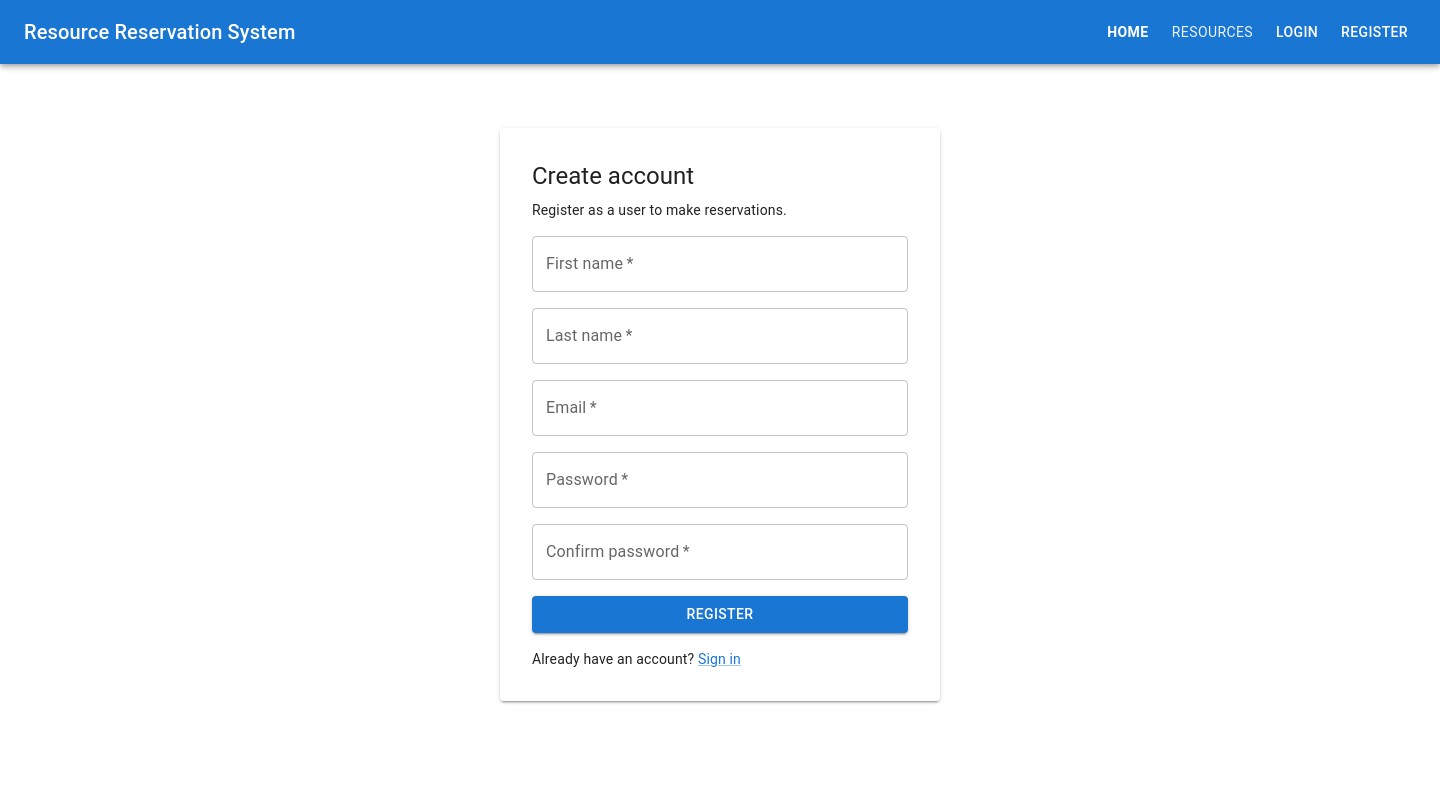
Test: RegisterPage › shows validation error when passwords do not match
Type "User" into the field labelled "First name *".
click(720, 264); type("User")  # box [532,236,908,292]
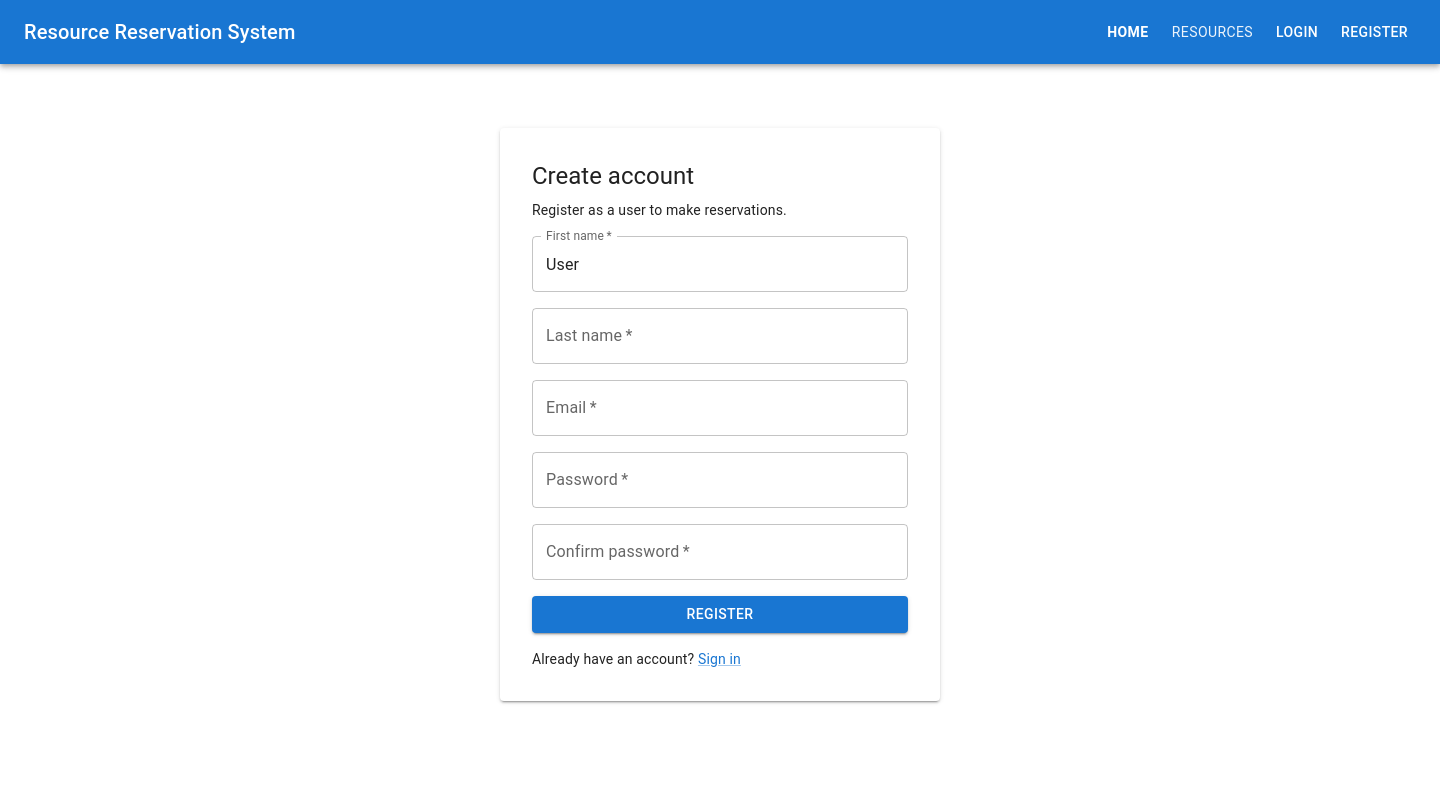
Type "Test" into the field labelled "Last name *".
click(720, 336); type("Test")  # box [532,308,908,364]
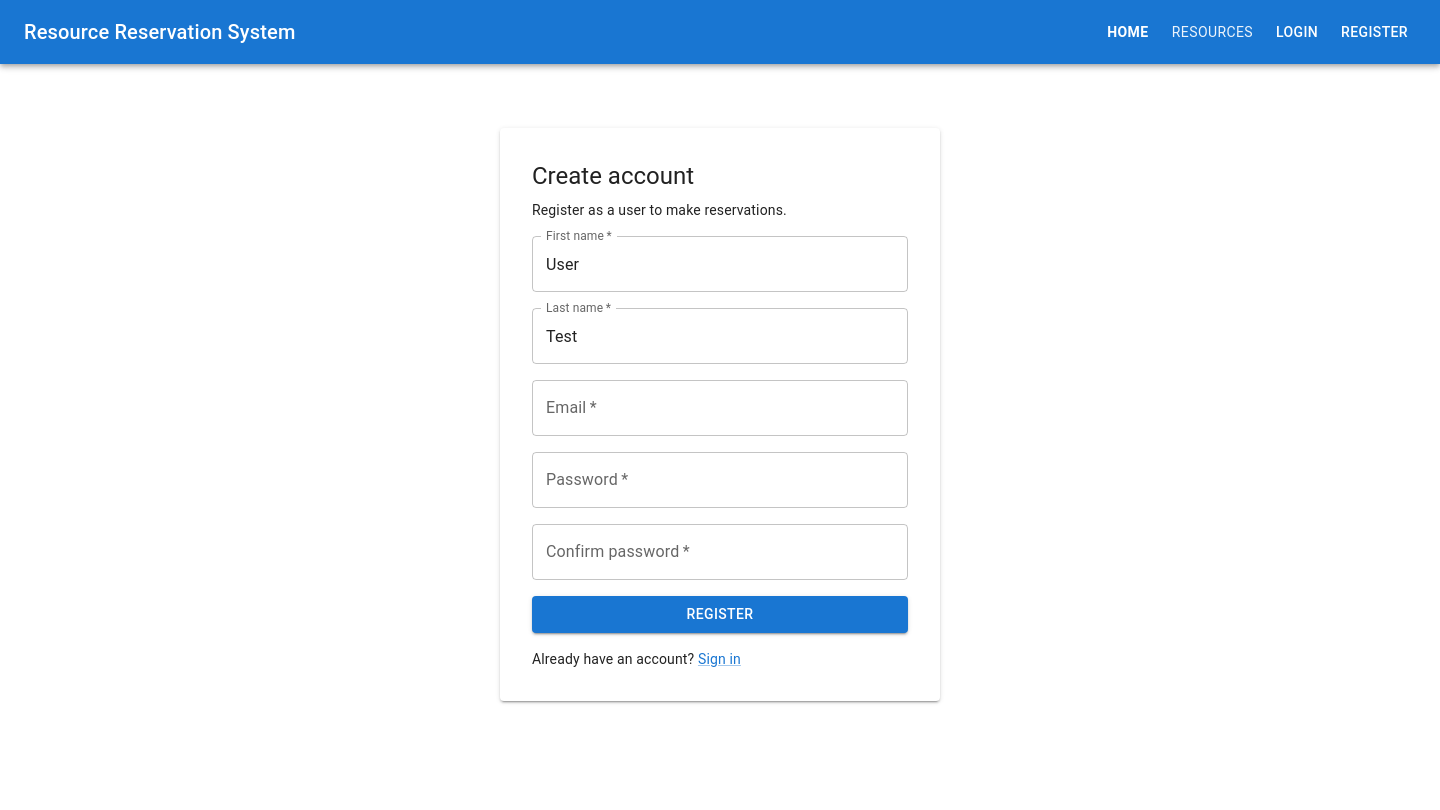
Type "user@example.com" into the field labelled "Email *".
click(720, 408); type("user@example.com")  # box [532,380,908,436]
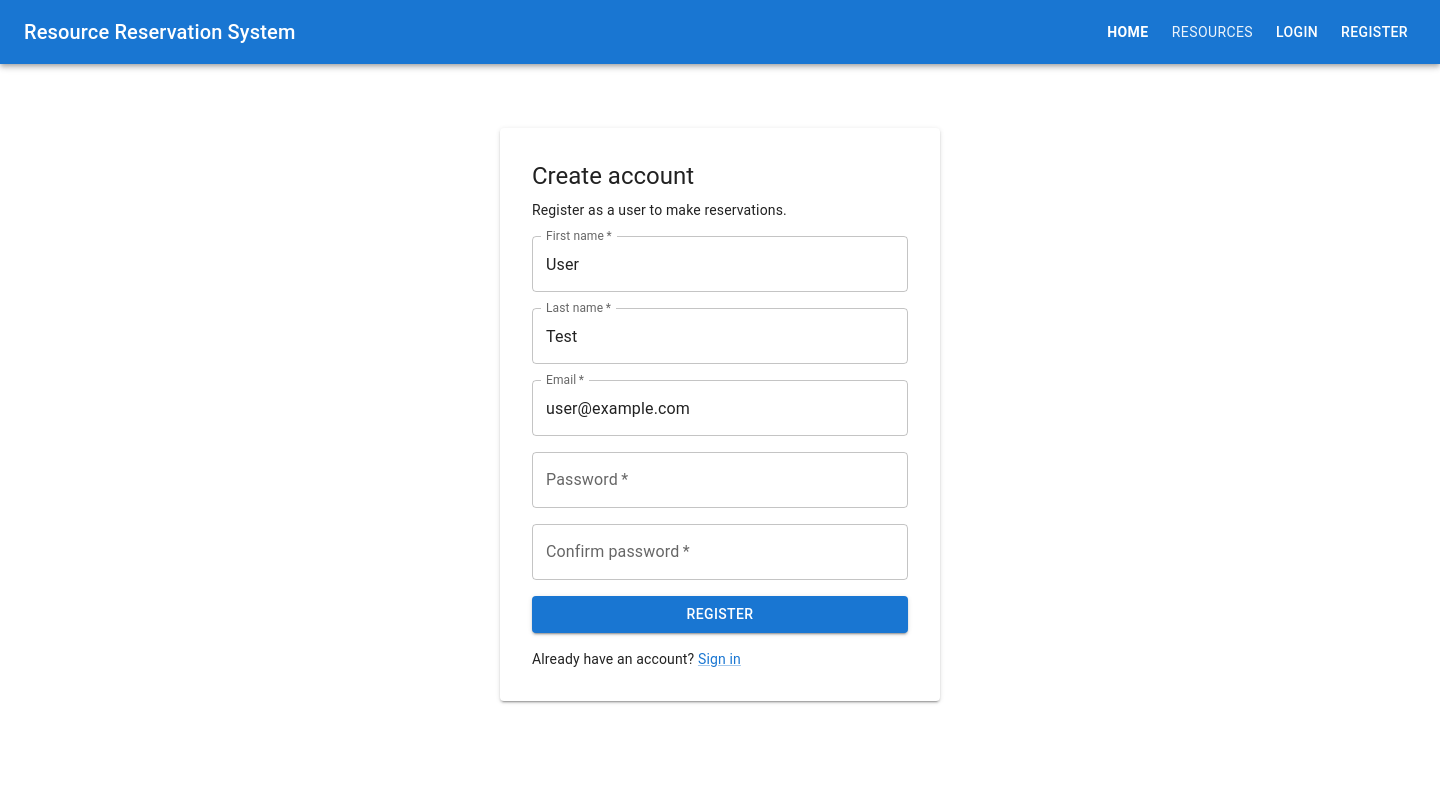
Type "password123" into the password field labelled "Password *".
click(720, 480); type("password123")  # box [532,452,908,508]
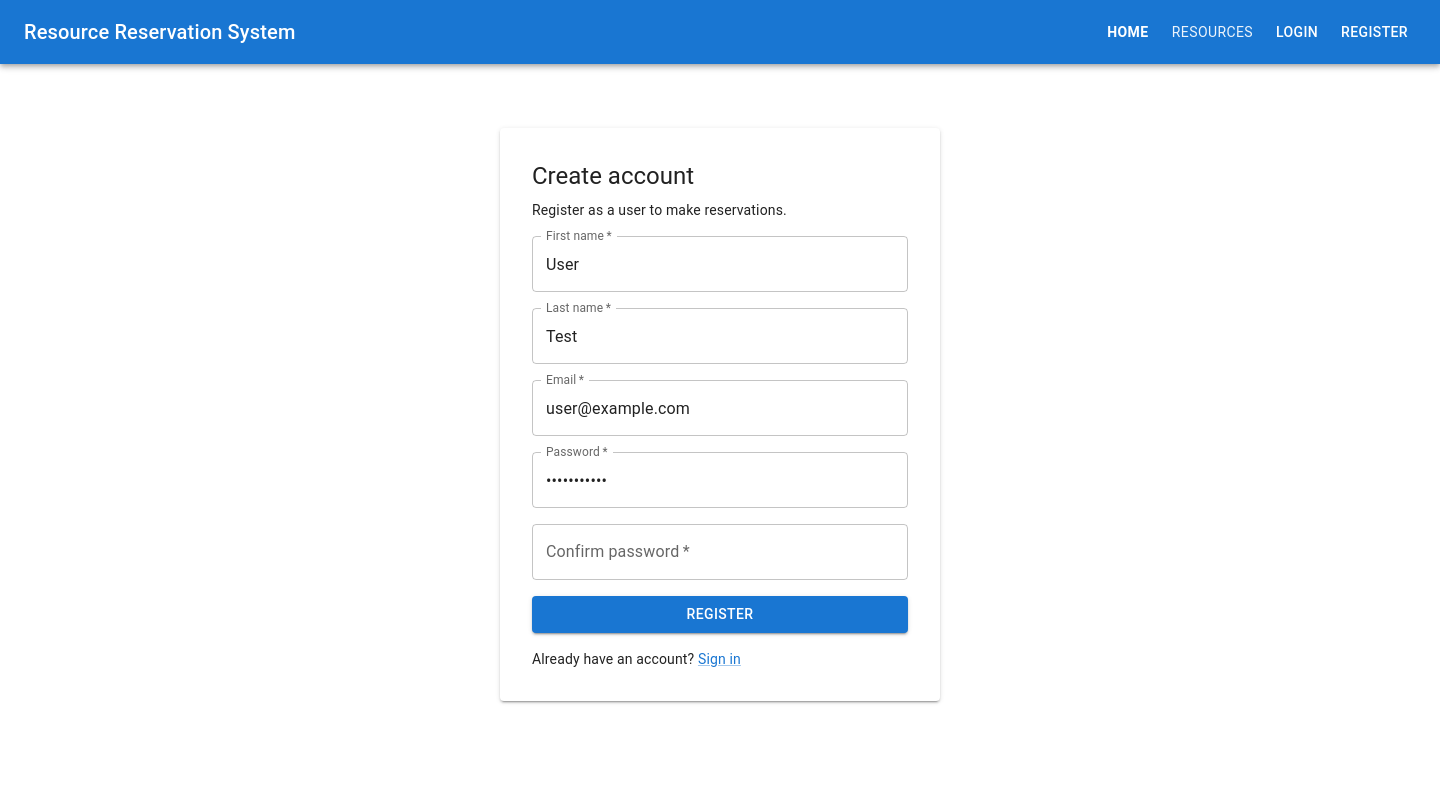
Type "different" into the password field labelled "Confirm password *".
click(720, 552); type("different")  # box [532,524,908,580]
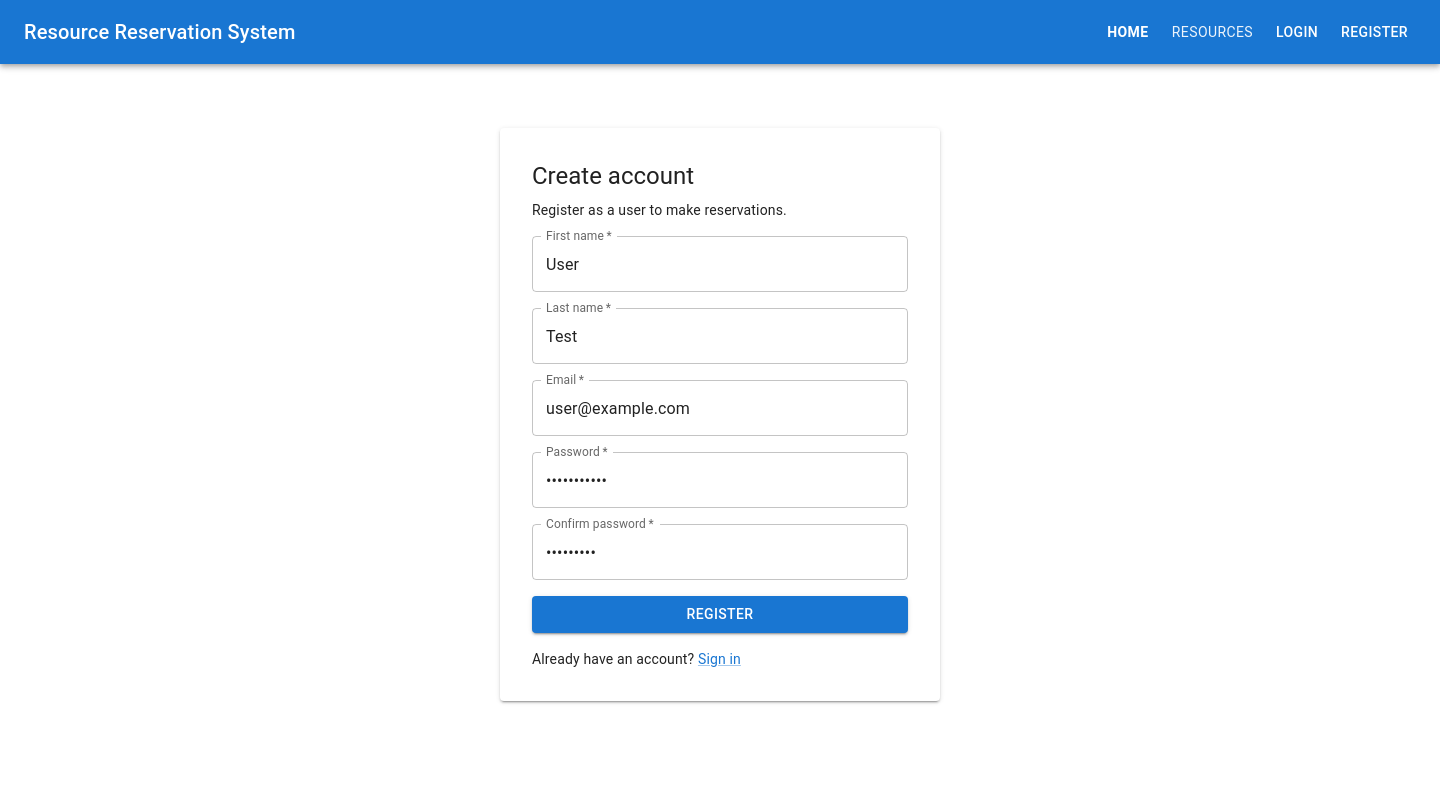
Click the button "Register".
click(720, 615)  # box [532,596,908,633]
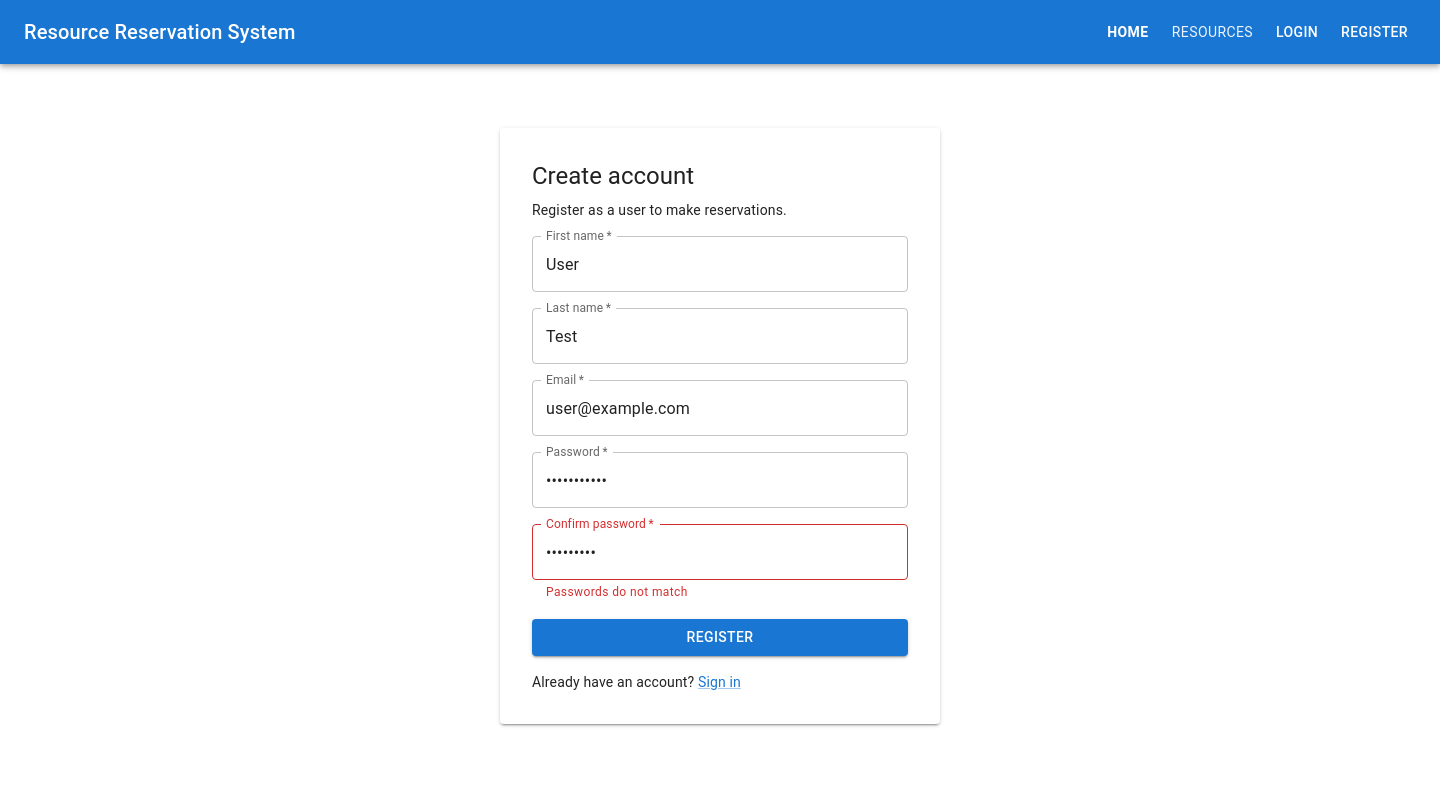
Expected: the text "Passwords do not match" is shown, [546,585,688,599]
